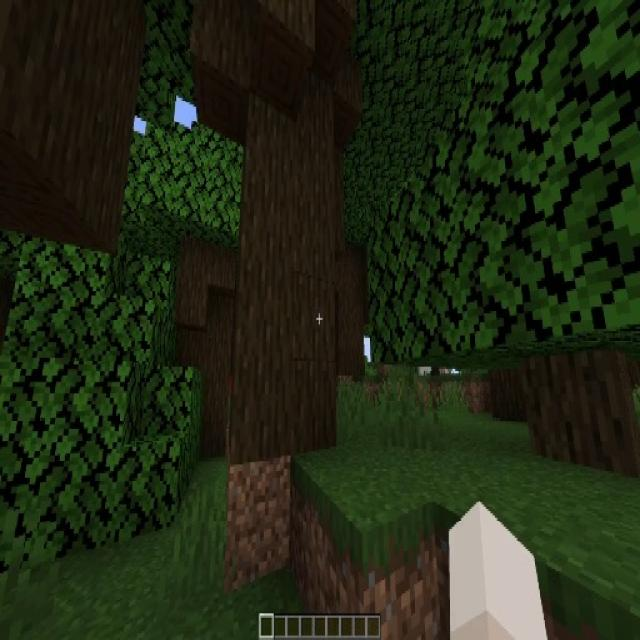dark_oak: (136, 117, 234, 461)
dark_oak_log: (229, 0, 341, 456), (176, 250, 231, 446), (336, 251, 368, 378)
oak_log: (521, 344, 639, 477)
